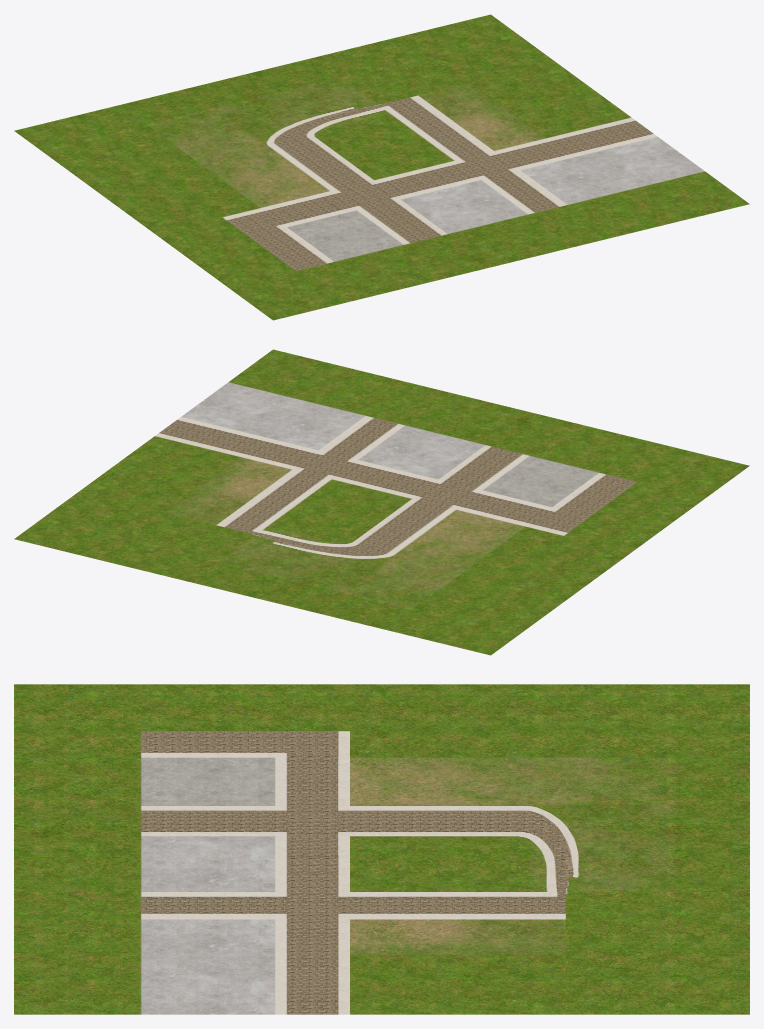
The model's file is Ground_Texture_002 (2).fbx.
3 views of the same model, one above another, from view 1: azimuth 30°, elevation 25°; view 2: azimuth 150°, elevation 25°; view 3: azimuth 270°, elevation 25° (orthographic). The views are drawn at different scales.
Visible parts, largest first — view 1: polySurface1052; view 2: polySurface1052; view 3: polySurface1052.
Boxes of the visible parts, x1,y1,x2,y2 form: polySurface1052: [14, 14, 749, 320]; polySurface1052: [14, 349, 749, 655]; polySurface1052: [14, 684, 749, 1014].
Size of the model in its own units: 280 by 0 by 264.
Materials: 1 (1 with a texture image).
